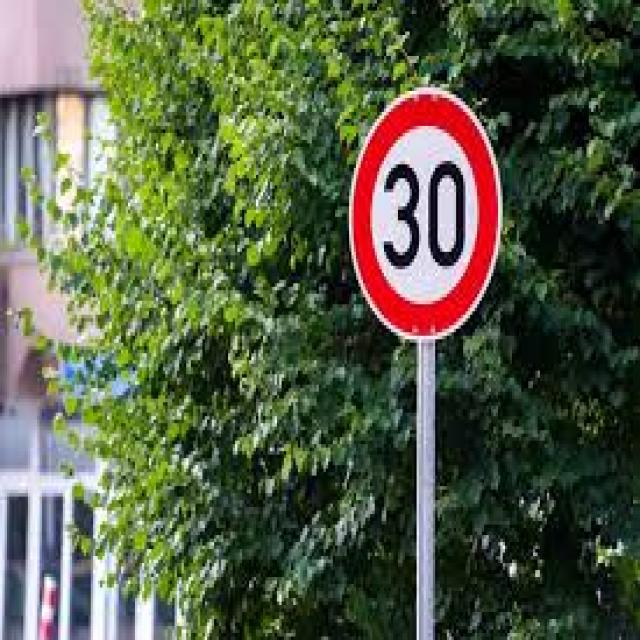Speed limit 30: (345, 81, 506, 344)
